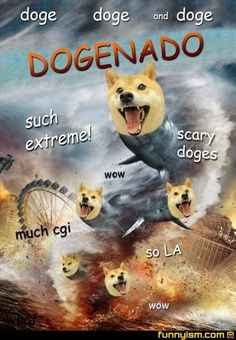doge: (100, 66, 168, 136), (164, 176, 199, 221), (74, 181, 104, 221), (102, 262, 131, 297), (60, 255, 80, 276)
